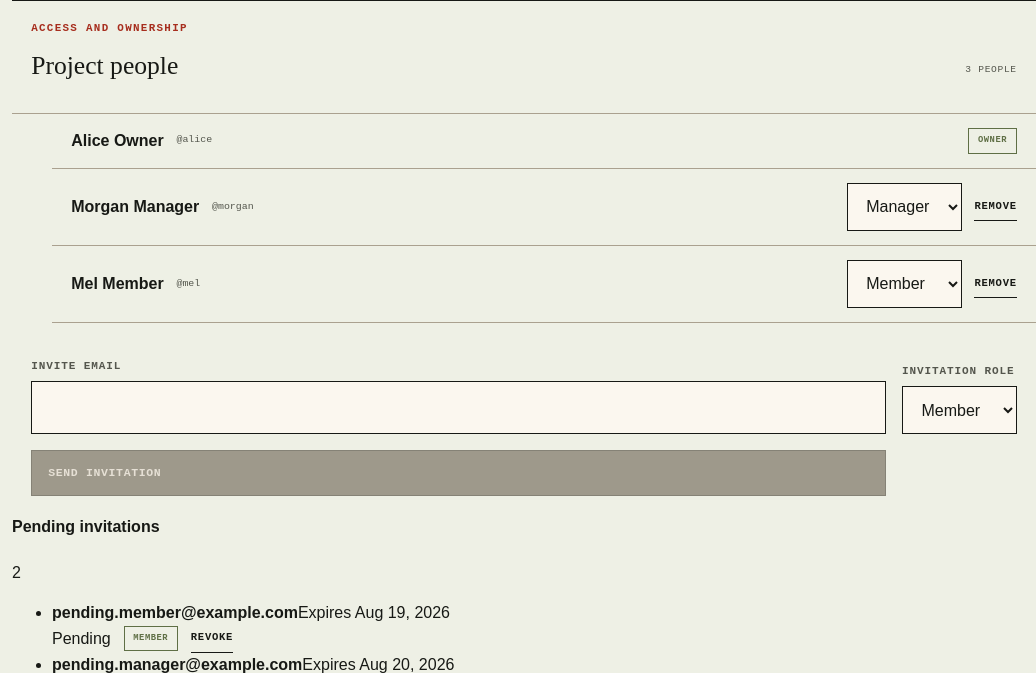
Test case: ProjectPeoplePanel › invites by email and copies only the URL returned by creation
The width and height of the screenshot is (1036, 673).
Expected: the button "copy invite link" is not shown
Type "new.manager@example.com" into the field labelled "Invite email" at x=459, y=408, box [31,381,886,434]
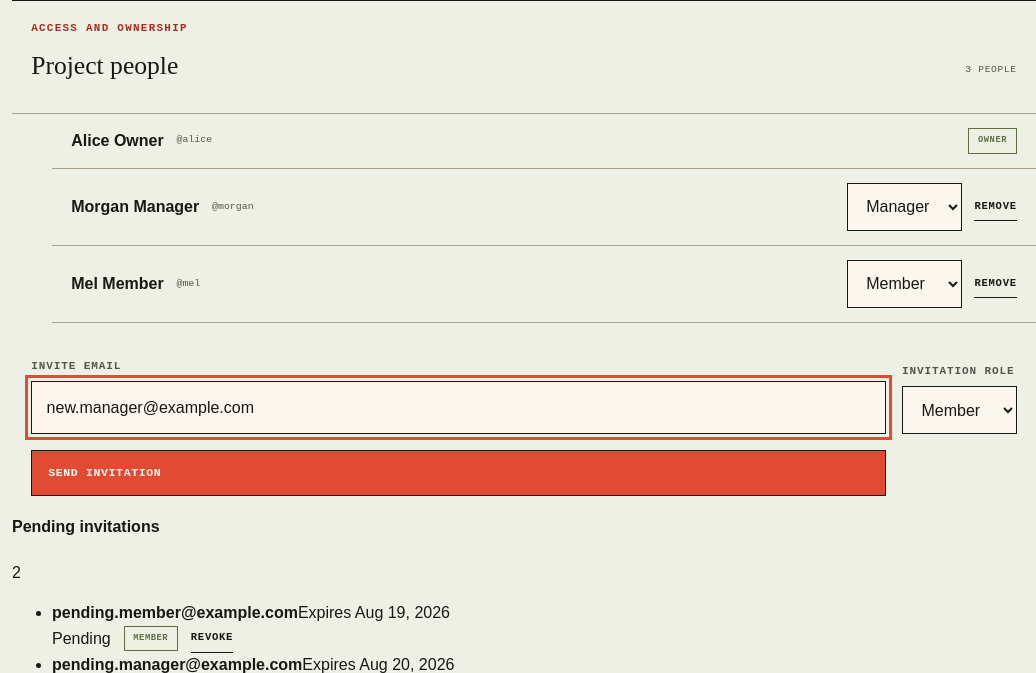
Select "Manager" in the dropdown labelled "Invitation role" at x=959, y=410, box [902,386,1017,434]
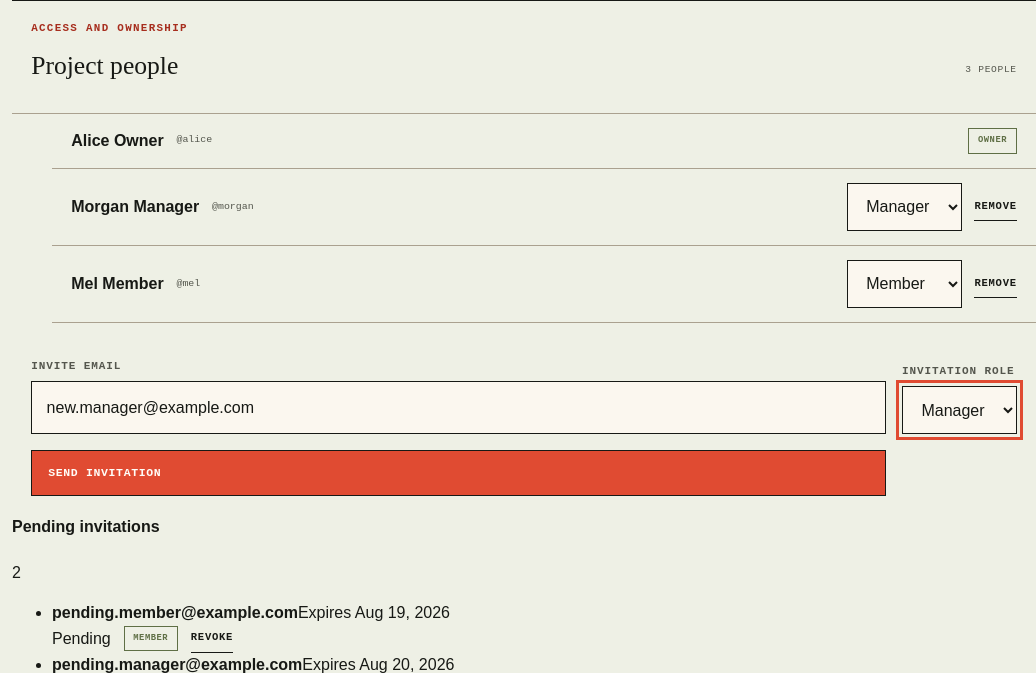
Click the button "Send invitation" at x=105, y=473, box [31,450,886,496]
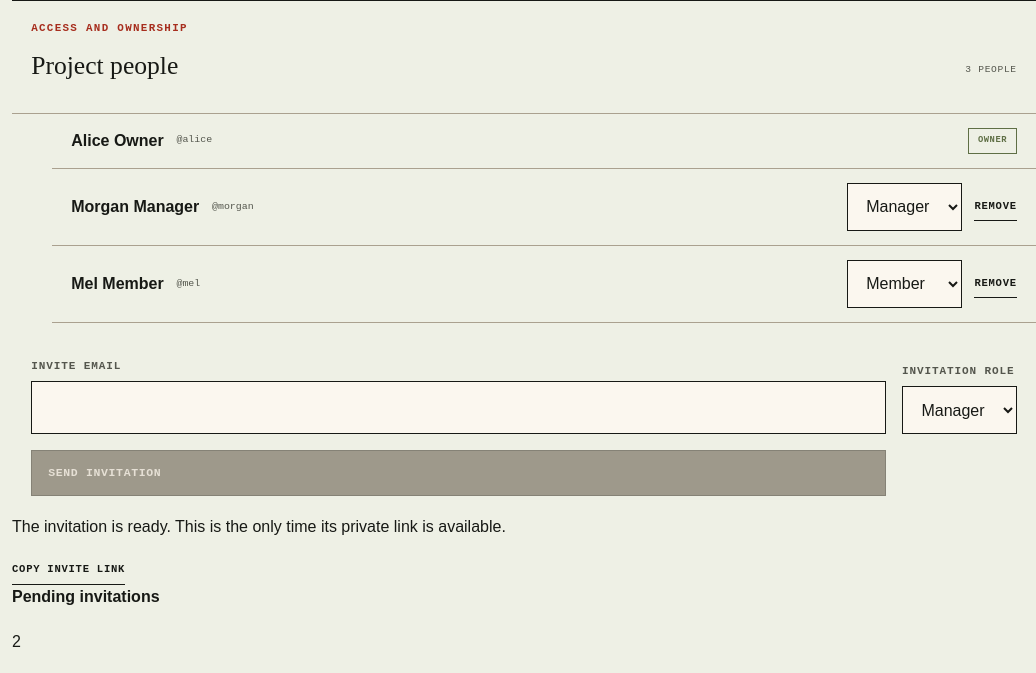
Click the button "Copy invite link" at x=69, y=571, box [12,557,125,585]
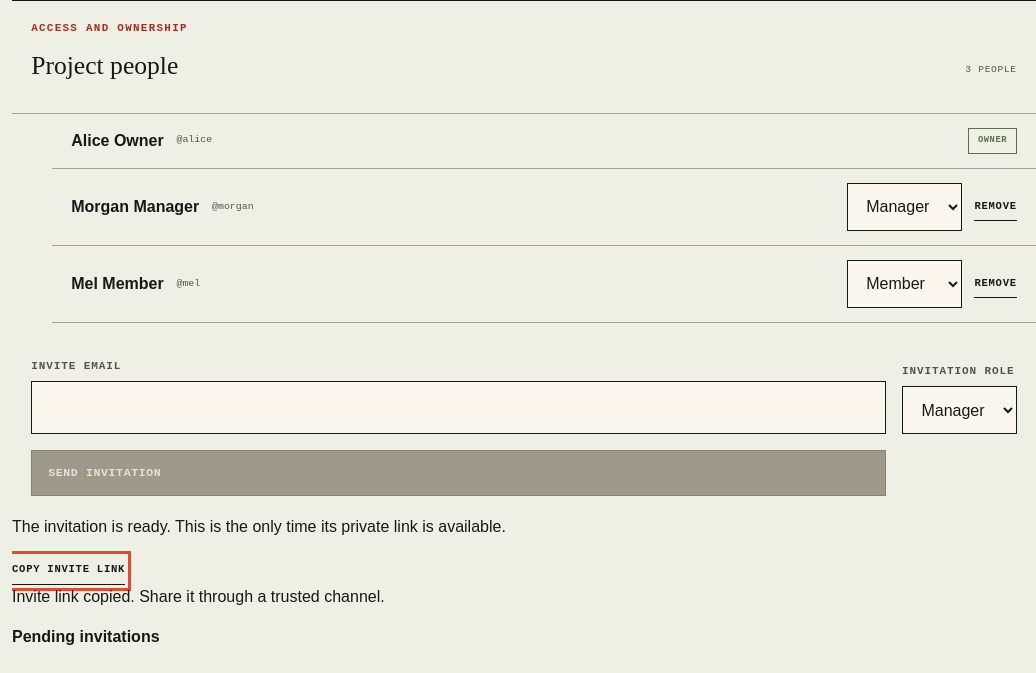
Expected: the message shows "Invite link copied", [12,588,385,605]
